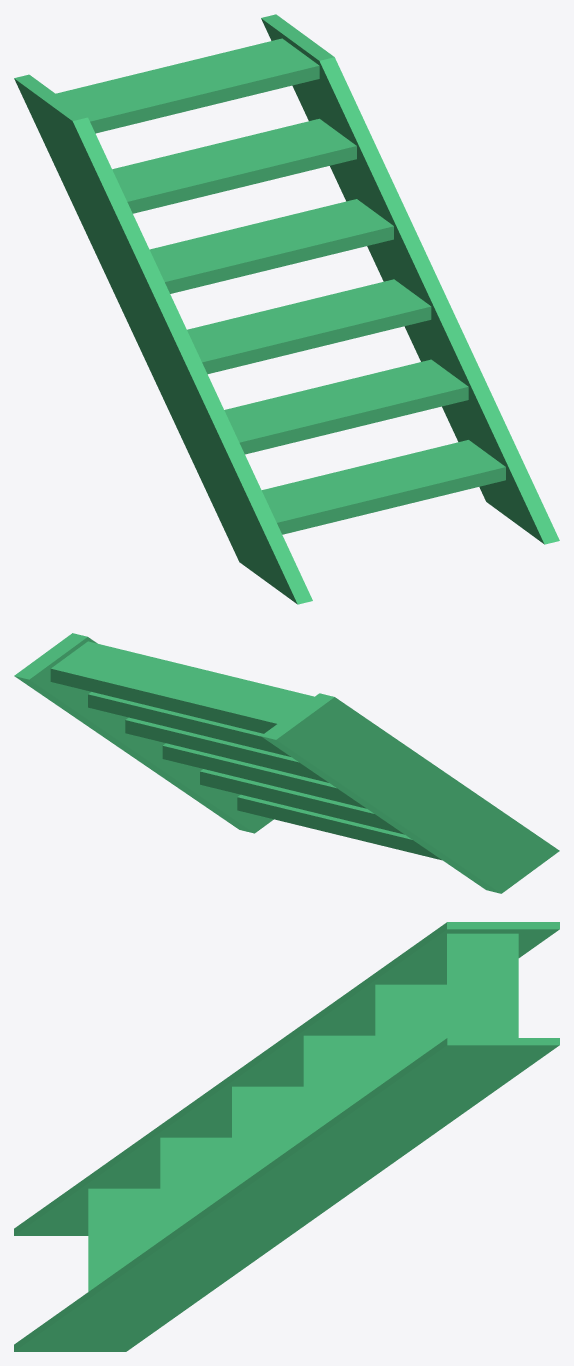
Rendered from Stairs_063.glb.
3 renders of one model, top to bottom at view 1: azimuth 30°, elevation 25°; view 2: azimuth 150°, elevation 25°; view 3: azimuth 270°, elevation 25°, orthographic. The views are drawn at different scales.
Visible parts, largest first — view 1: Stairs_063; view 2: Stairs_063; view 3: Stairs_063.
Part boxes in pixels (left/top/right/bottom): Stairs_063: left=14, top=14, right=559, bottom=604; Stairs_063: left=14, top=633, right=559, bottom=893; Stairs_063: left=14, top=922, right=559, bottom=1351.
Bounding box in the file's own units: 1.72 × 2 × 3.23.
Materials: 1 (1 with a texture image).
